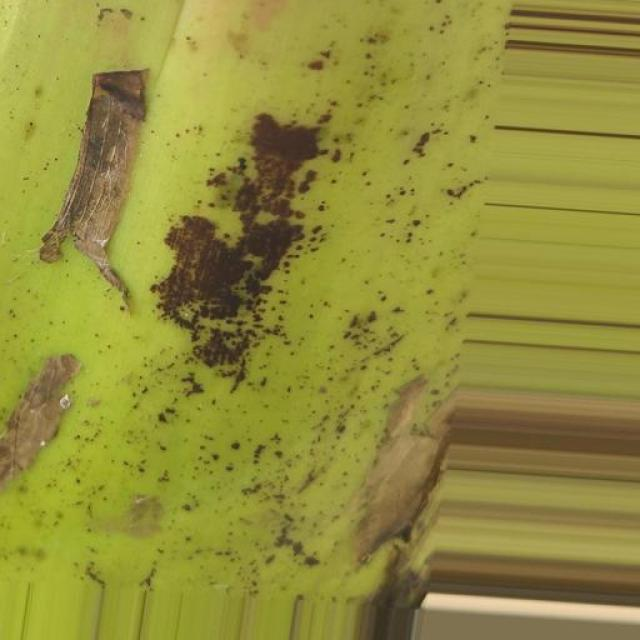Anthracnose: (2, 4, 524, 601)
